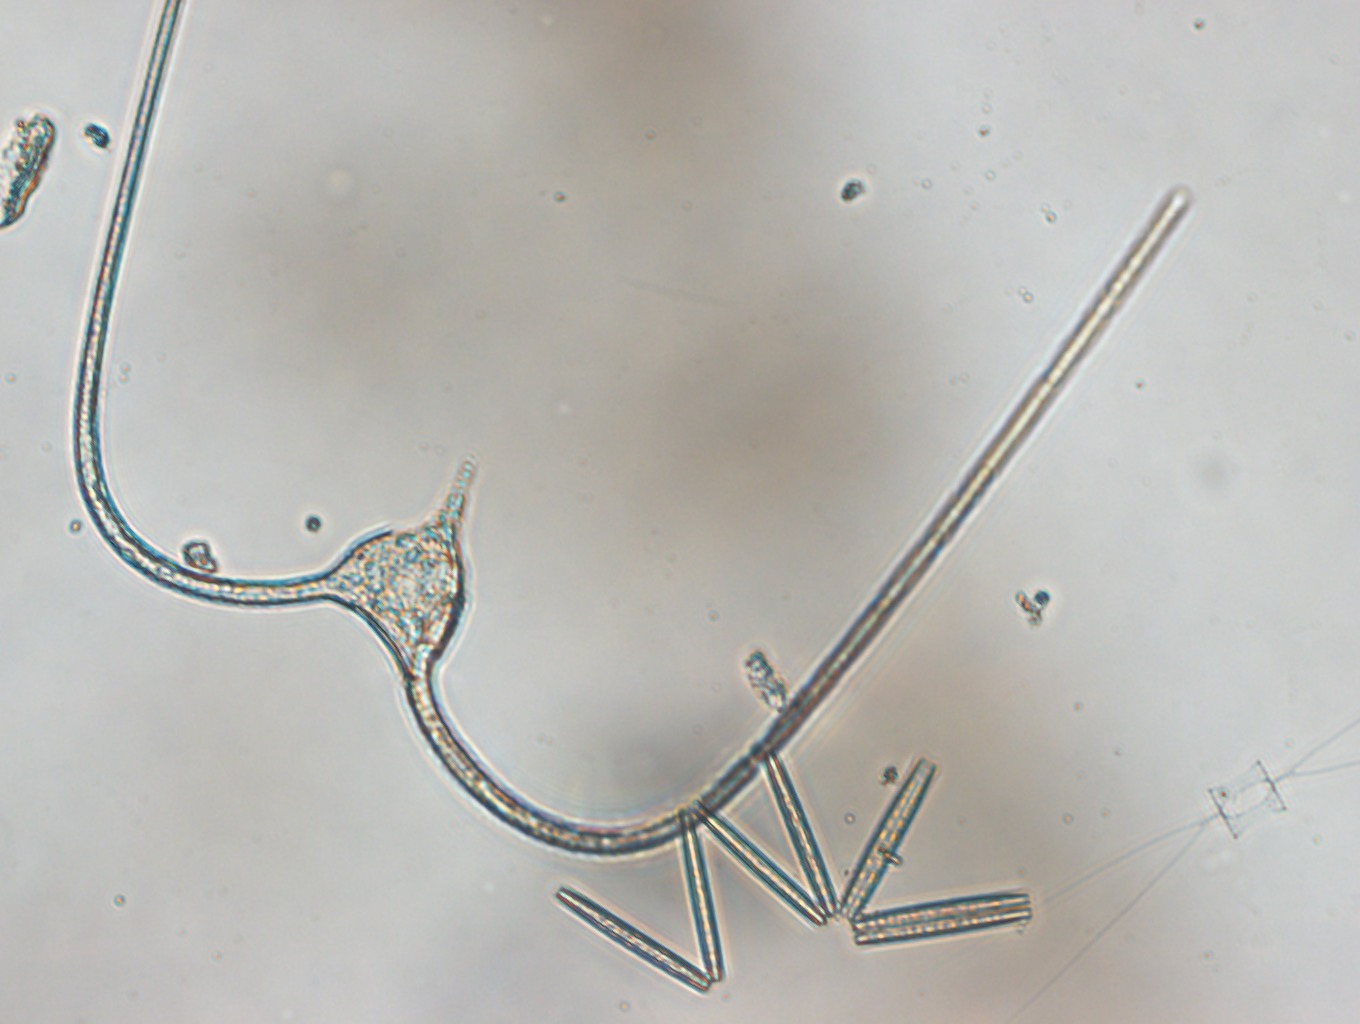ceratium trichoceros: (74, 1, 1196, 861)
thalassionema nitzschioides: (555, 750, 1037, 995)
